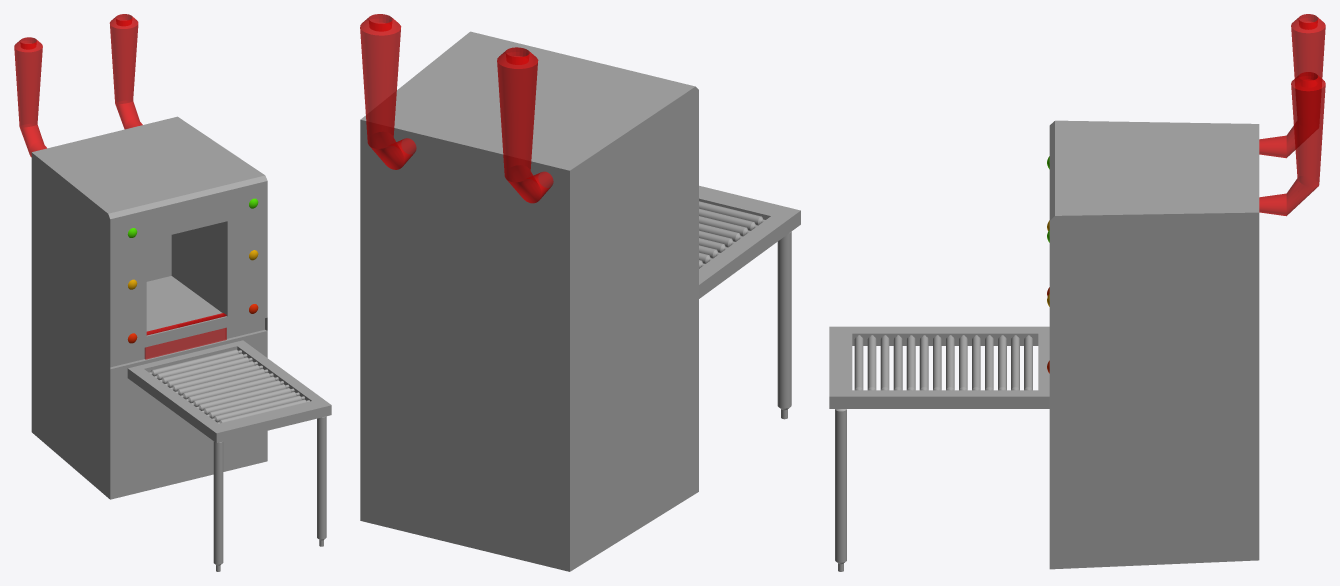
The model's file is Turbo_recycle.fbx.
The picture shows the model from 3 angles, left to right: view 1: azimuth 30°, elevation 25°; view 2: azimuth 150°, elevation 25°; view 3: azimuth 270°, elevation 25°; orthographic projection. The views are drawn at different scales.
Visible parts, largest first — view 1: Machine, echappement_droit2, vitre1; view 2: Machine, echappement_droit2; view 3: Machine, echappement_droit2.
Boxes of the visible parts, box(x1,y1,x2,y2) form: Machine: box(31, 116, 331, 571); echappement_droit2: box(14, 14, 142, 157); vitre1: box(144, 313, 226, 359); Machine: box(360, 31, 800, 571); echappement_droit2: box(360, 14, 553, 203); Machine: box(829, 120, 1259, 571); echappement_droit2: box(1259, 14, 1325, 216).
Bounding box in the file's own units: 108 × 257 × 237.
